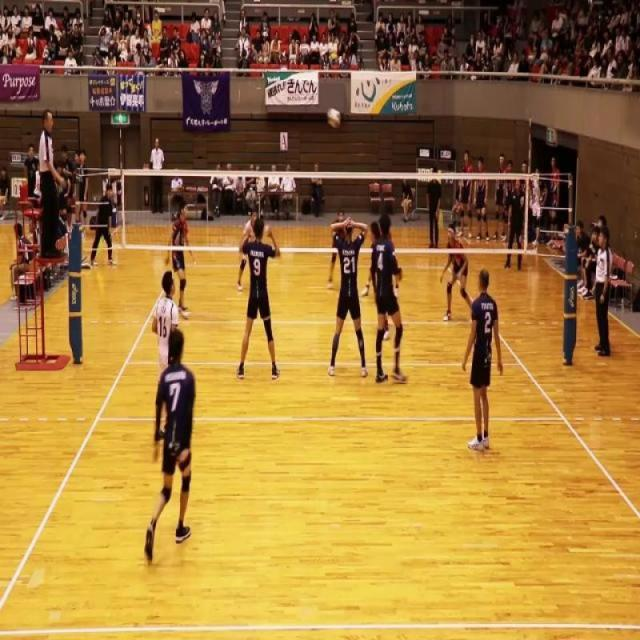volleyball: (326, 106, 342, 129)
